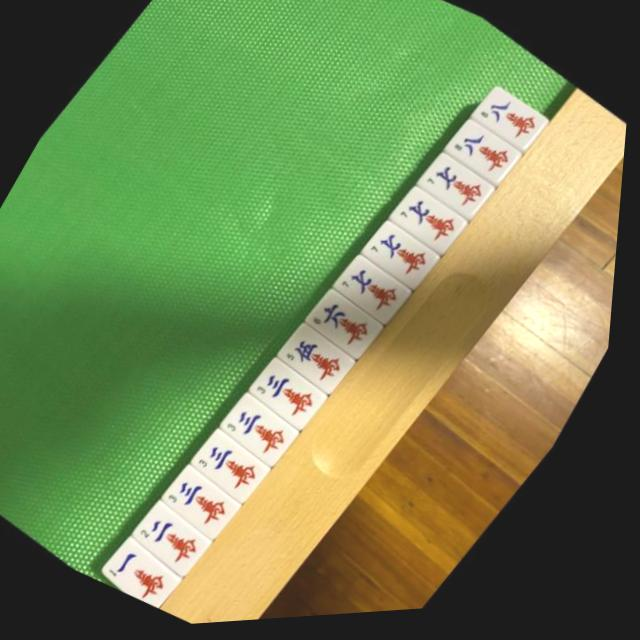sc1: (104, 535, 202, 618)
sc2: (132, 497, 231, 587)
sc3: (219, 389, 320, 481), (190, 425, 291, 516), (247, 354, 346, 444), (163, 462, 262, 551)
sc5: (276, 320, 374, 408)
sc6: (302, 286, 402, 374)
sc7: (386, 184, 482, 270), (359, 218, 454, 304), (331, 252, 426, 337), (414, 151, 509, 235)
sc8: (439, 118, 536, 203), (467, 85, 563, 169)
